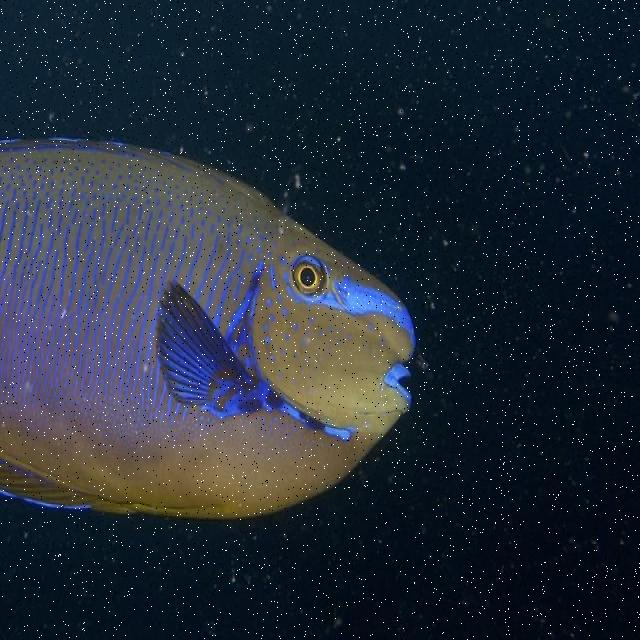fish: (0, 136, 418, 522)
